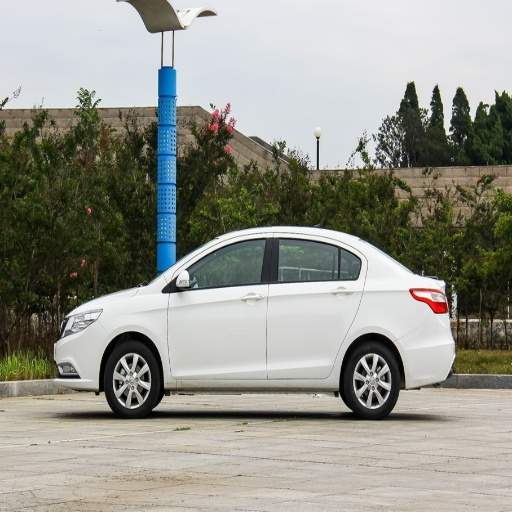back_left_door: (267, 235, 364, 376)
front_left_door: (167, 235, 272, 378)
